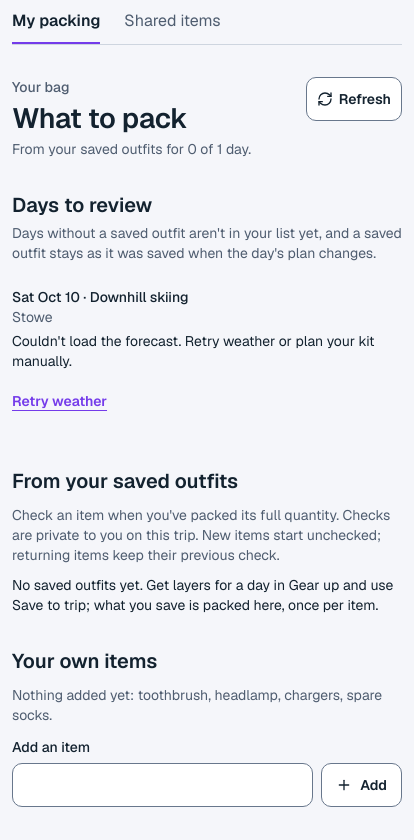
Scenario: Trip packing coverage › retains the last list when refreshing fails and announces the failure
The width and height of the screenshot is (414, 840).
expect the heading "Days to review" is shown: met, box top-left (12, 192), bottom-right (152, 218)
Click the button with aria-label "Refresh pack list" at (354, 99), box top-left (306, 77), bottom-right (402, 121)
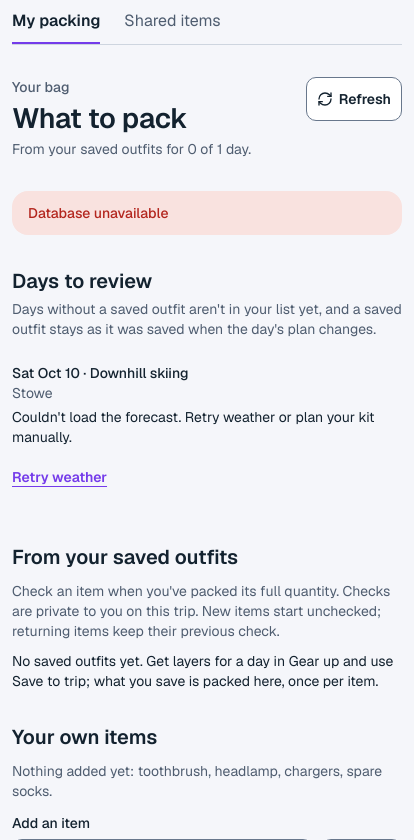
expect the link with aria-label "Retry weather for 2026-10-10" is shown: met, box top-left (12, 468), bottom-right (107, 486)
expect the message reads "Database unavailable": met, box top-left (28, 204), bottom-right (168, 222)
